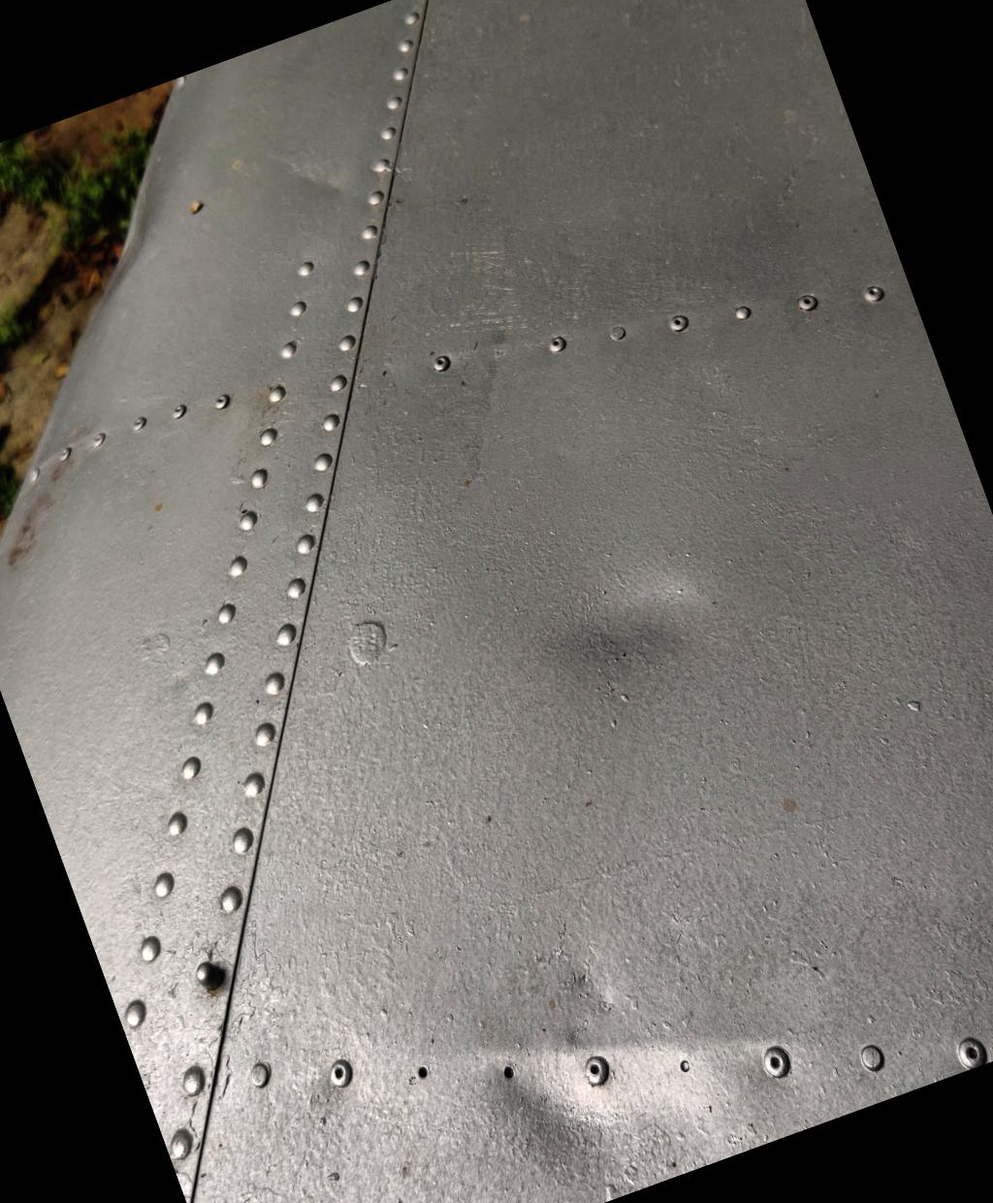dent: (483, 442, 800, 767), (416, 892, 743, 1203)
